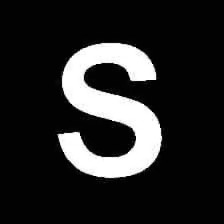LTR_S: (49, 37, 162, 177)
